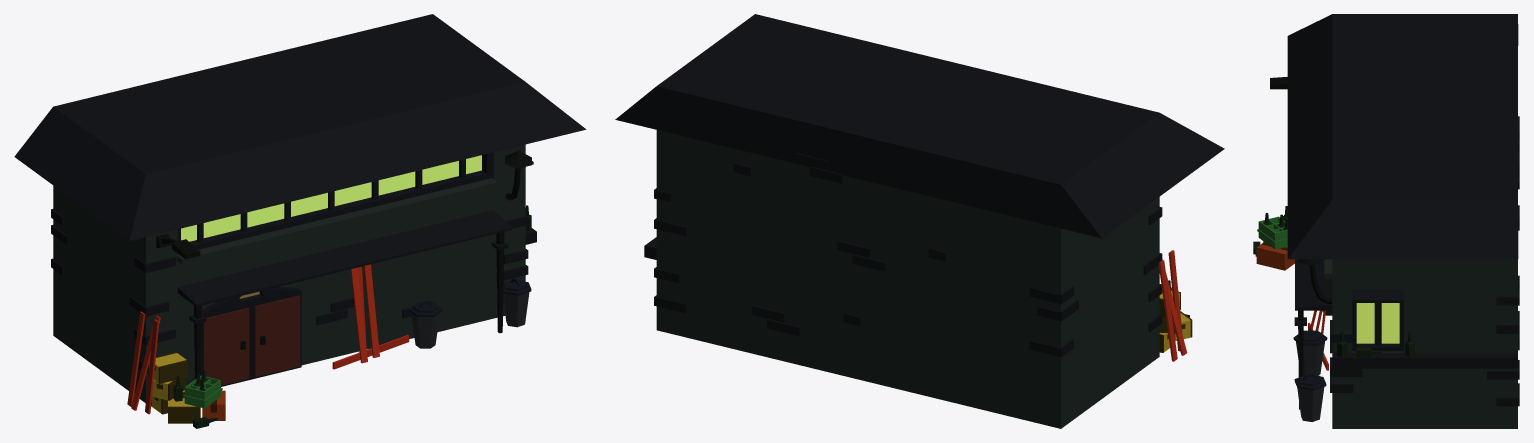
File: house_5.fbx
The picture shows the model from 3 angles, left to right: view 1: azimuth 30°, elevation 25°; view 2: azimuth 150°, elevation 25°; view 3: azimuth 270°, elevation 25°; orthographic projection. The views are drawn at different scales.
Parts seen in each view (by area): view 1: house_5; view 2: house_5; view 3: house_5.
Boxes of the visible parts, left/top/right/bottom form: house_5: left=14, top=14, right=586, bottom=428; house_5: left=615, top=14, right=1224, bottom=428; house_5: left=1253, top=14, right=1519, bottom=428.
Size of the model in its own units: 1246 by 597 by 628.
